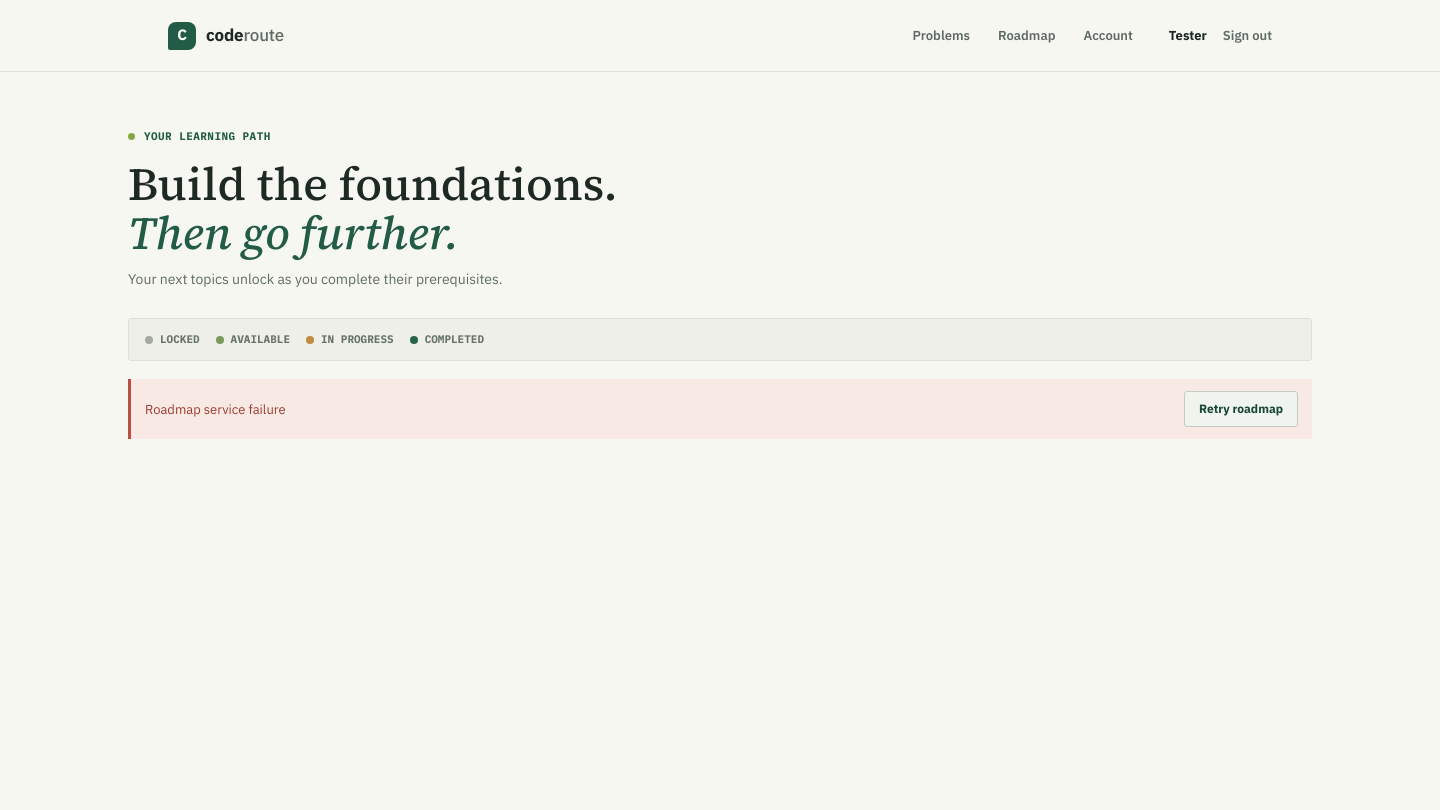
RoadmapPage Component › renders error state and retries on failure
Expected: the message "Roadmap service failure Retry roadmap" is shown, [128,379,1312,439]
Expected: the text "Roadmap service failure" is shown, [145,400,286,419]
Click the button "Retry roadmap" at x=1241, y=409, box [1184,391,1298,427]
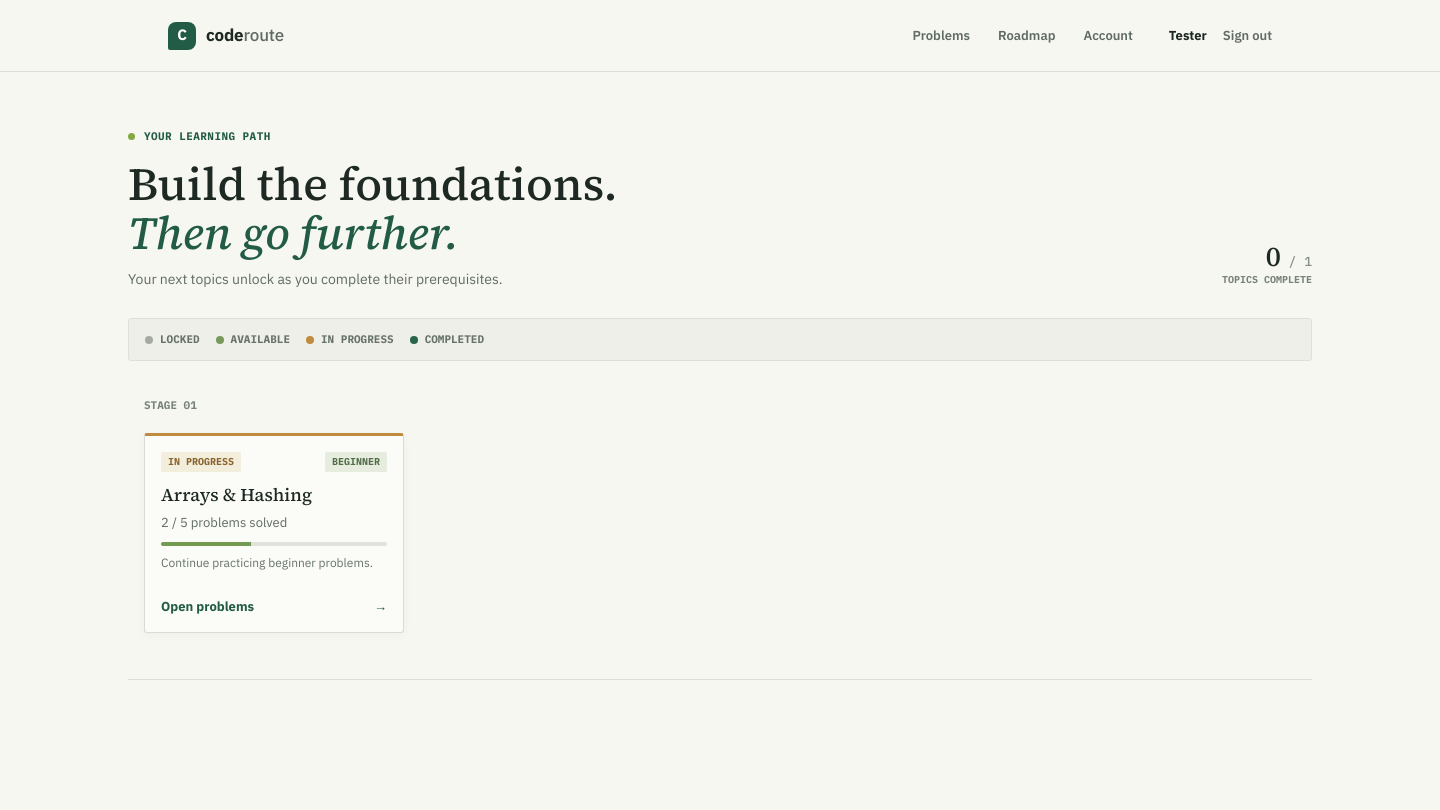
Result: the heading "Arrays & Hashing" is shown at [161,482,312,507]
Result: the element with test id "roadmap-board" that starts with "STAGE" is shown at [128,379,1312,680]
